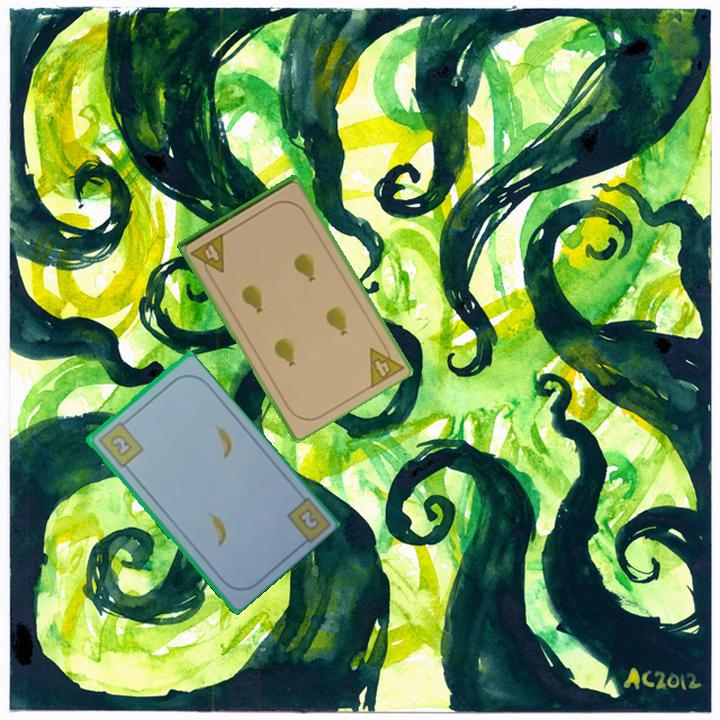2b: (94, 416, 146, 470), (294, 505, 322, 533)
4p: (366, 336, 407, 391), (187, 230, 228, 281)
